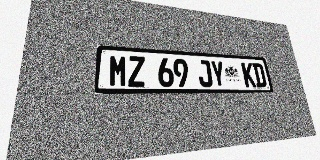6: (157, 57, 174, 87)
9: (173, 58, 190, 87)
D: (252, 63, 267, 87)
J: (197, 60, 213, 87)
K: (241, 62, 256, 87)
M: (109, 55, 127, 87)
Y: (210, 60, 226, 87)
Z: (128, 56, 146, 87)
